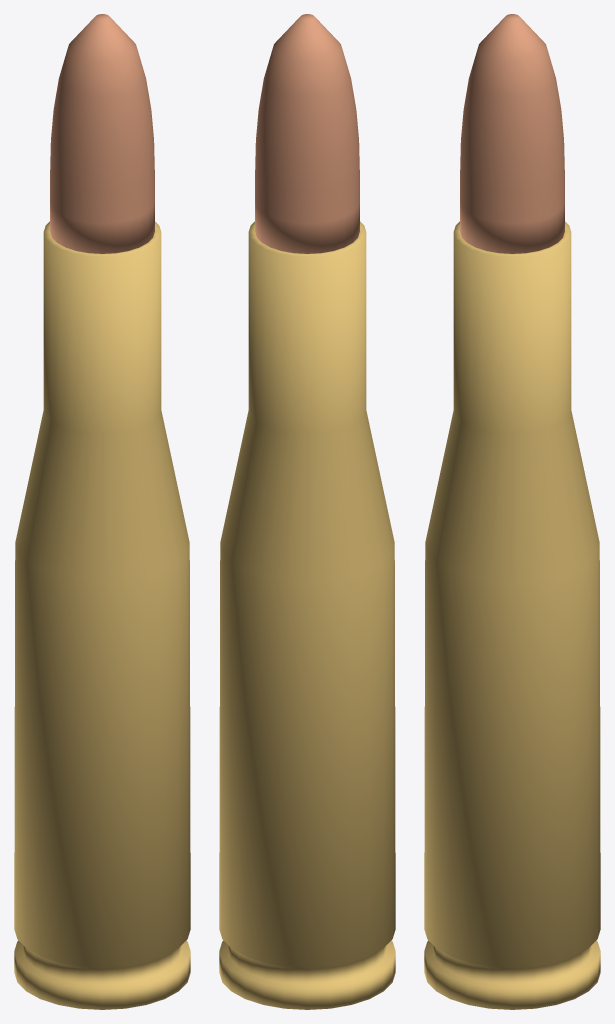
File: 556_std.glb
The picture shows the model from 3 angles, left to right: view 1: azimuth 30°, elevation 25°; view 2: azimuth 150°, elevation 25°; view 3: azimuth 270°, elevation 25°; orthographic projection.
Parts seen in each view (by area): view 1: vaina, bala; view 2: vaina, bala; view 3: vaina, bala.
Boxes of the visible parts, x1=… form: vaina: x1=14, y1=221, x2=190, y2=1009; bala: x1=50, y1=14, x2=154, y2=253; vaina: x1=219, y1=221, x2=395, y2=1009; bala: x1=255, y1=14, x2=359, y2=253; vaina: x1=424, y1=221, x2=600, y2=1009; bala: x1=460, y1=14, x2=564, y2=253.
Bounding box in the file's own units: 0.0096 × 0.0574 × 0.0096.
